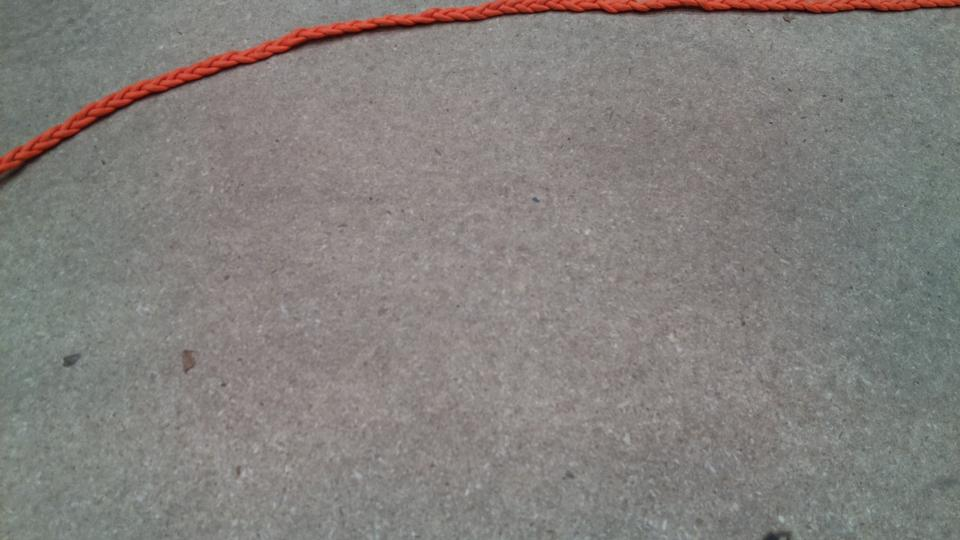rope: (1, 1, 959, 183)
